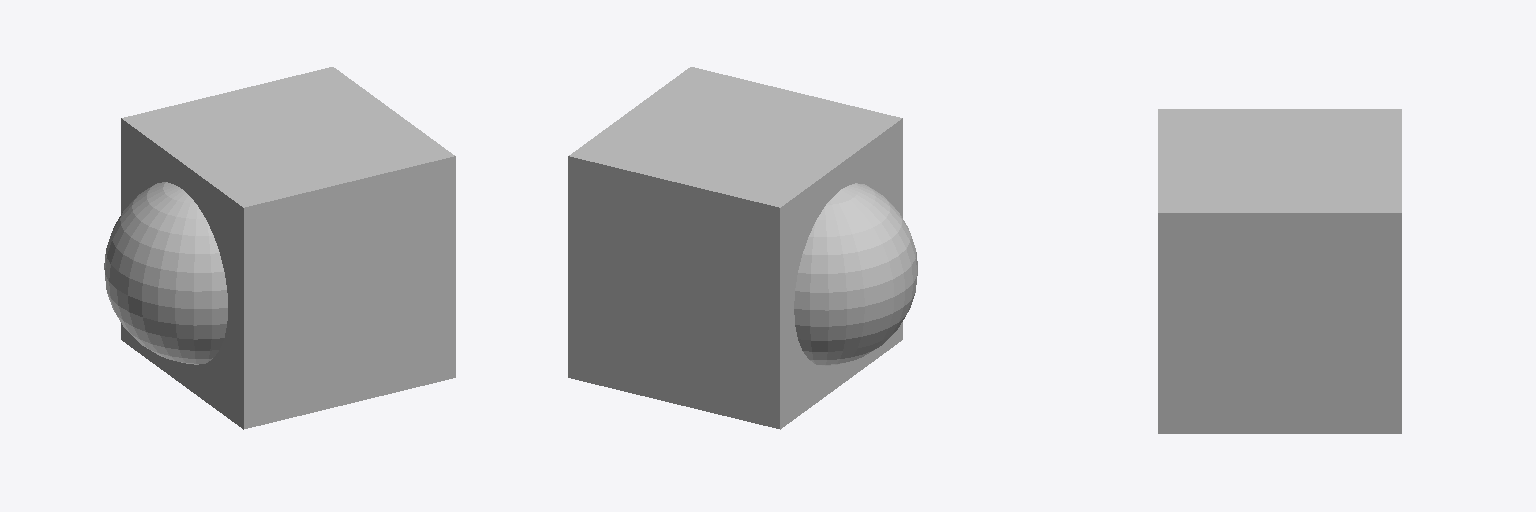
Rendered from sphereContainer1.obj.
The picture shows the model from 3 angles: view 1: azimuth 30°, elevation 25°; view 2: azimuth 150°, elevation 25°; view 3: azimuth 270°, elevation 25°; orthographic projection.
Parts seen in each view (by area): view 1: Cube_Cube.001, Sphere; view 2: Cube_Cube.001, Sphere; view 3: Cube_Cube.001.
Boxes of the visible parts, x1=… form: Cube_Cube.001: x1=121, y1=67, x2=455, y2=429; Sphere: x1=104, y1=182, x2=227, y2=364; Cube_Cube.001: x1=568, y1=67, x2=902, y2=429; Sphere: x1=794, y1=183, x2=917, y2=365; Cube_Cube.001: x1=1158, y1=109, x2=1401, y2=433.
Size of the model in its own units: 2.61 by 2 by 2.